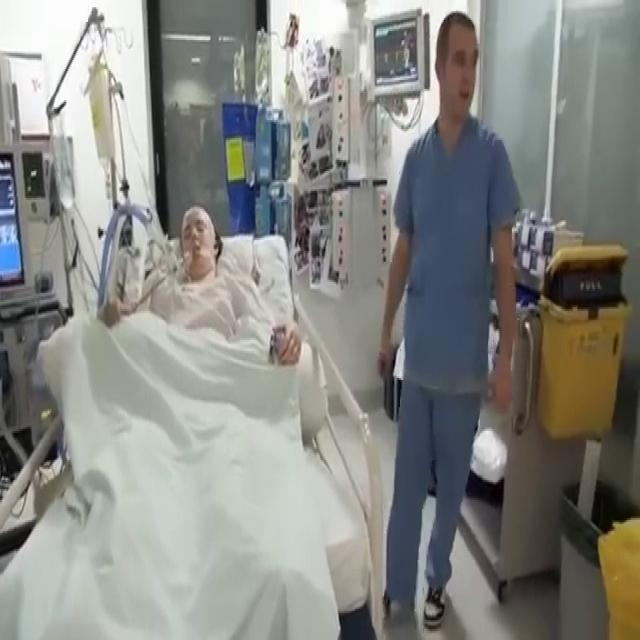monitor: (366, 7, 427, 100), (0, 147, 25, 291)
nurse: (375, 9, 521, 631)
patient: (0, 204, 381, 638), (102, 202, 301, 367)
